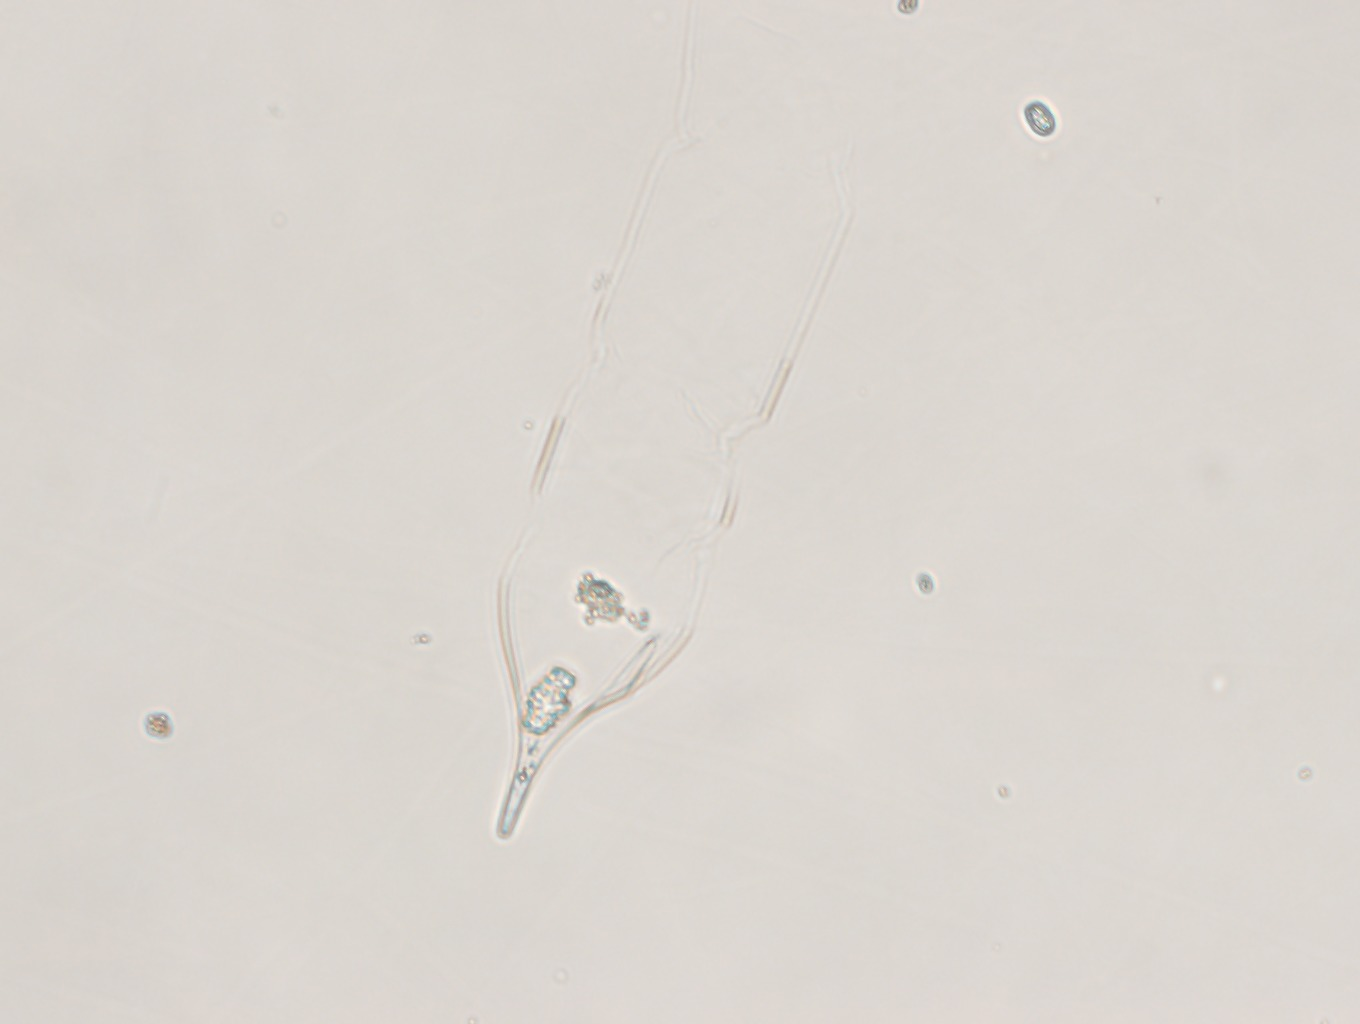rhizosolenia: (481, 35, 869, 849)
